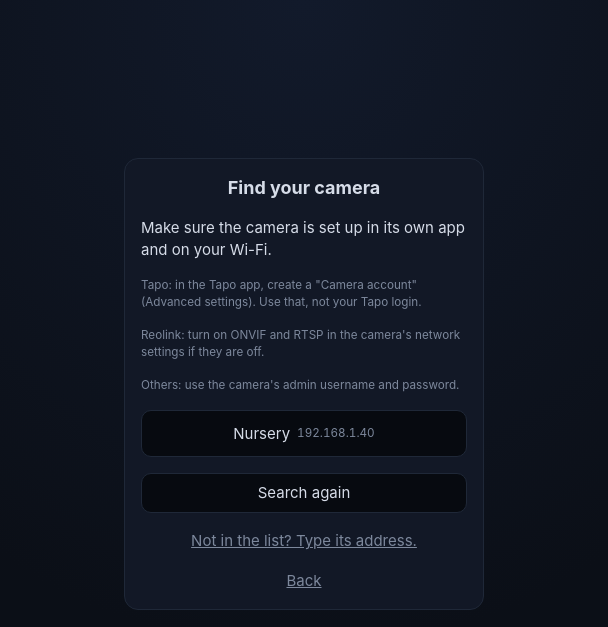
Test: lists scanned cameras and connects to the chosen one
Later steps or results of the test are not shown.
Expected: the button "Search again" is shown, 141,474 -> 467,513
Click the button "Nursery 192.168.1.40" at (304, 434), box 141,410 -> 467,458
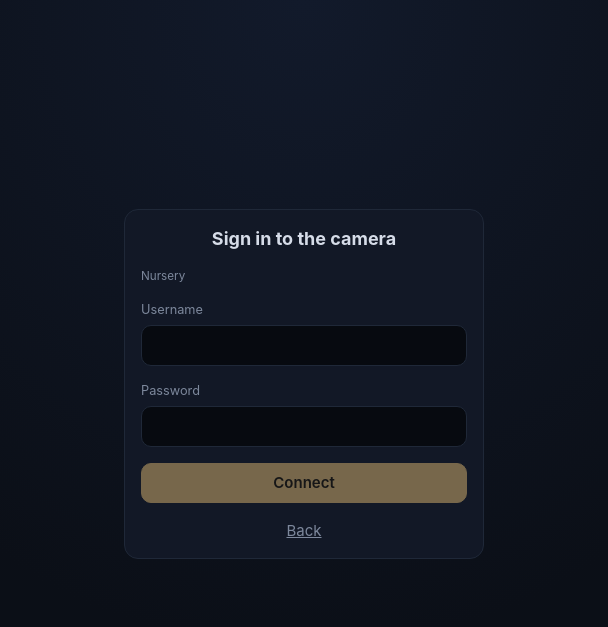
Type "admin" into the field labelled "Username" at (304, 346), box 141,325 -> 467,366
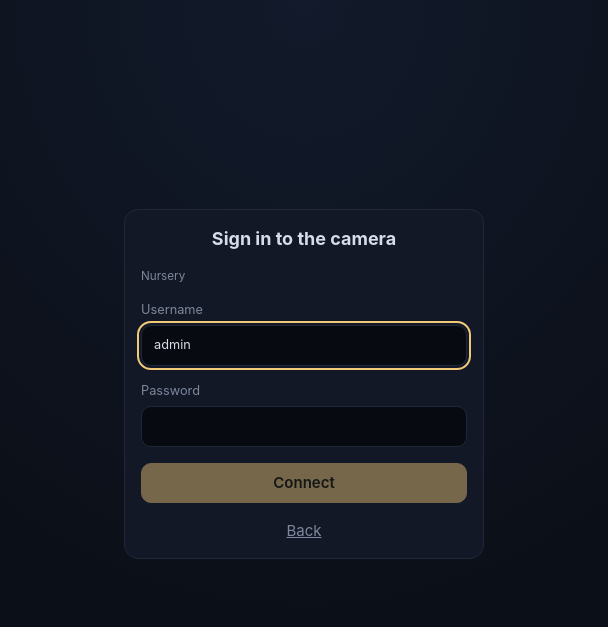
Type "cam-pass" into the password field labelled "Password" at (304, 427), box 141,406 -> 467,447
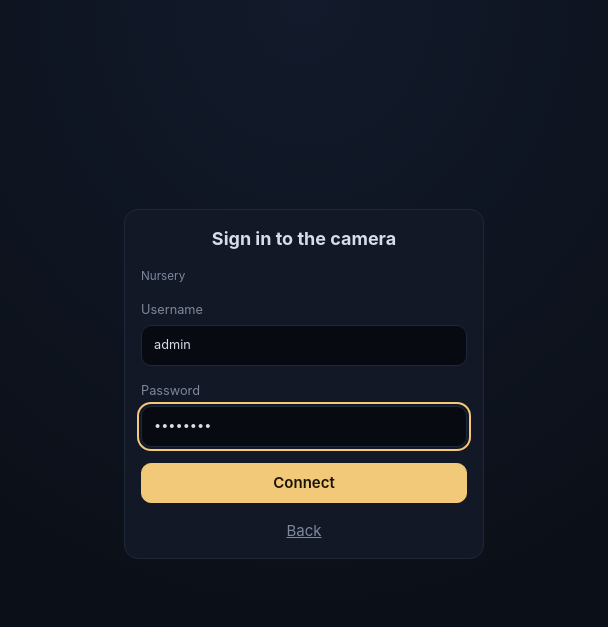
Click the button "Connect" at (304, 483), box 141,463 -> 467,503
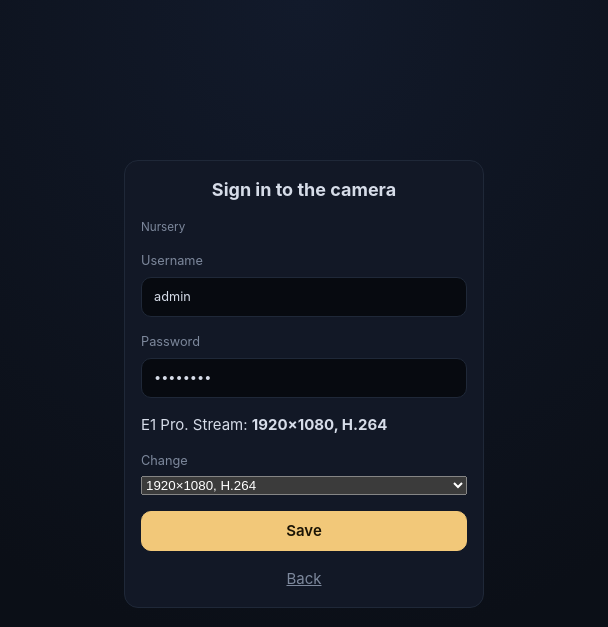
Result: the text "1920×1080, H.264" is shown at 252,415 -> 387,434
